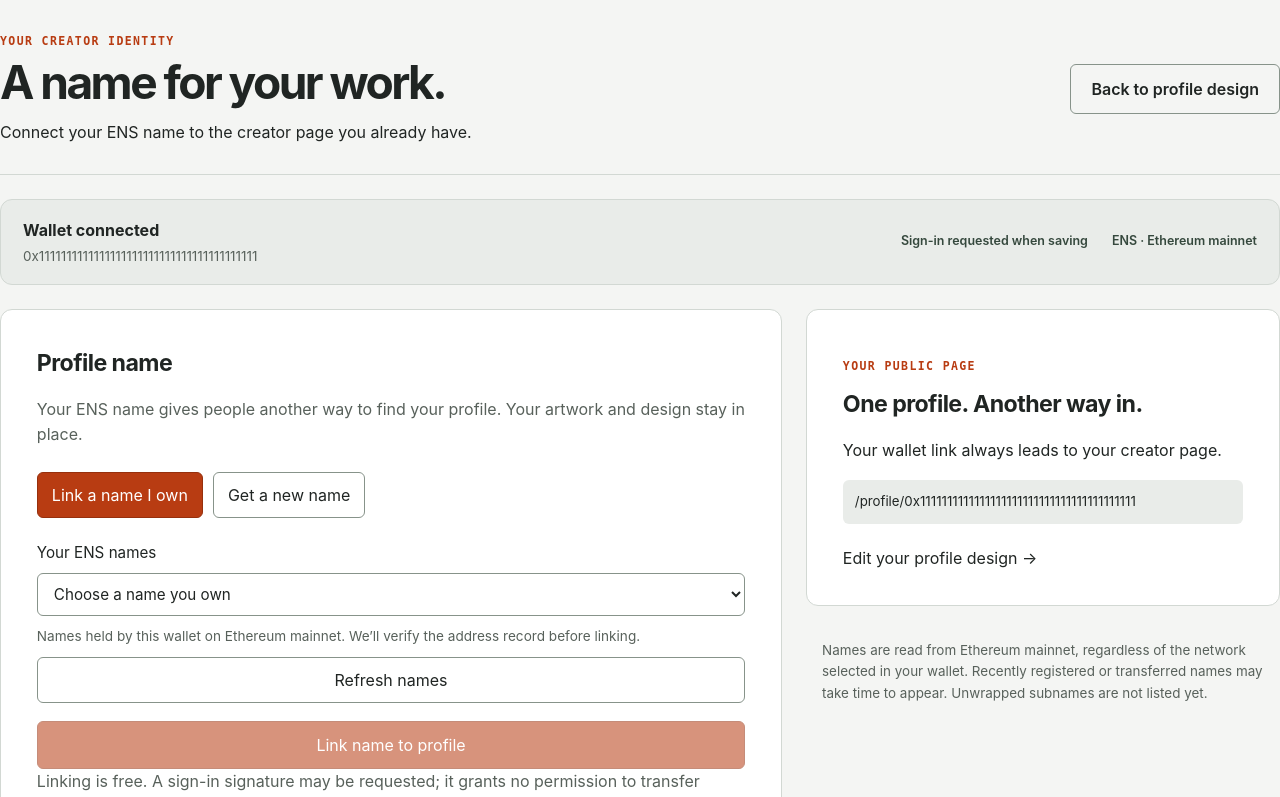
Scenario: discards a late ENS result after a different name is selected
Select "first.eth" in the dropdown labelled "Your ENS names" at point(391, 594), box [37,572,745,616]
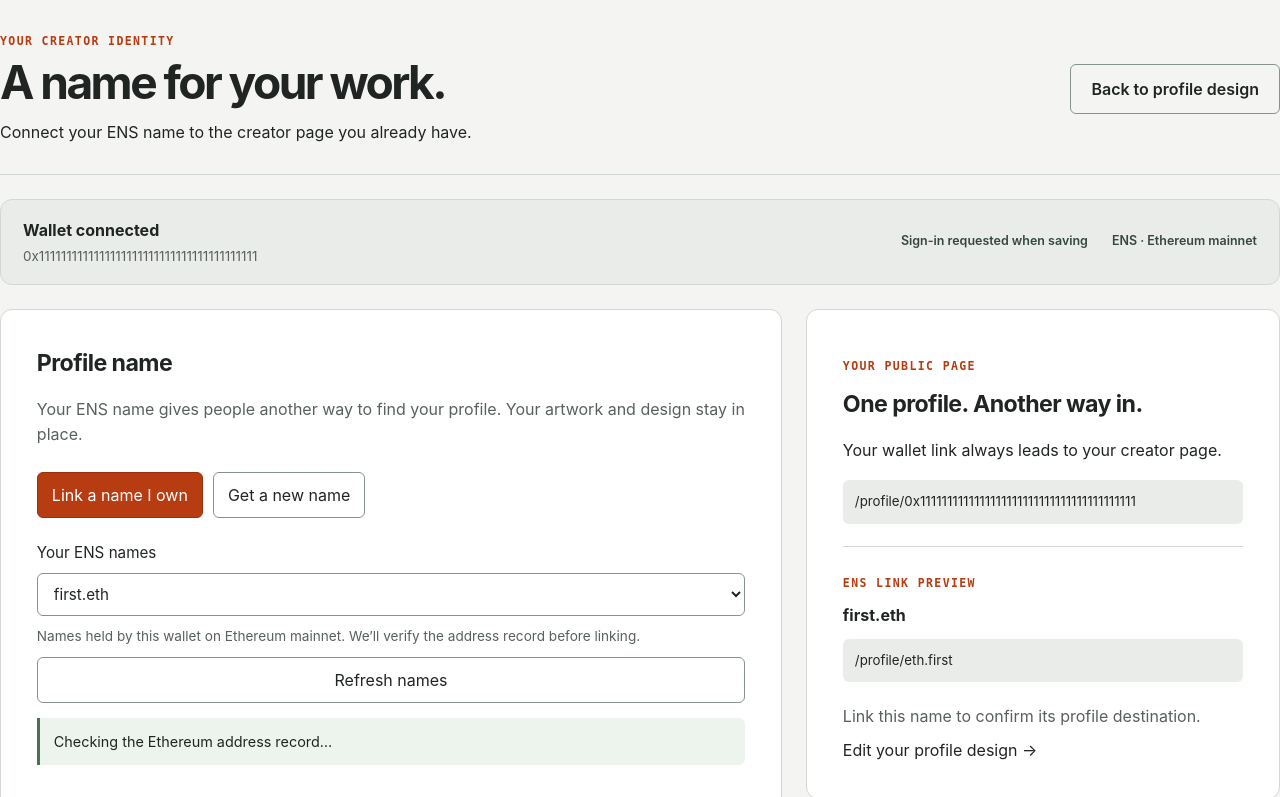
Select "second.eth" in the dropdown labelled "Your ENS names" at point(391, 594), box [37,572,745,616]
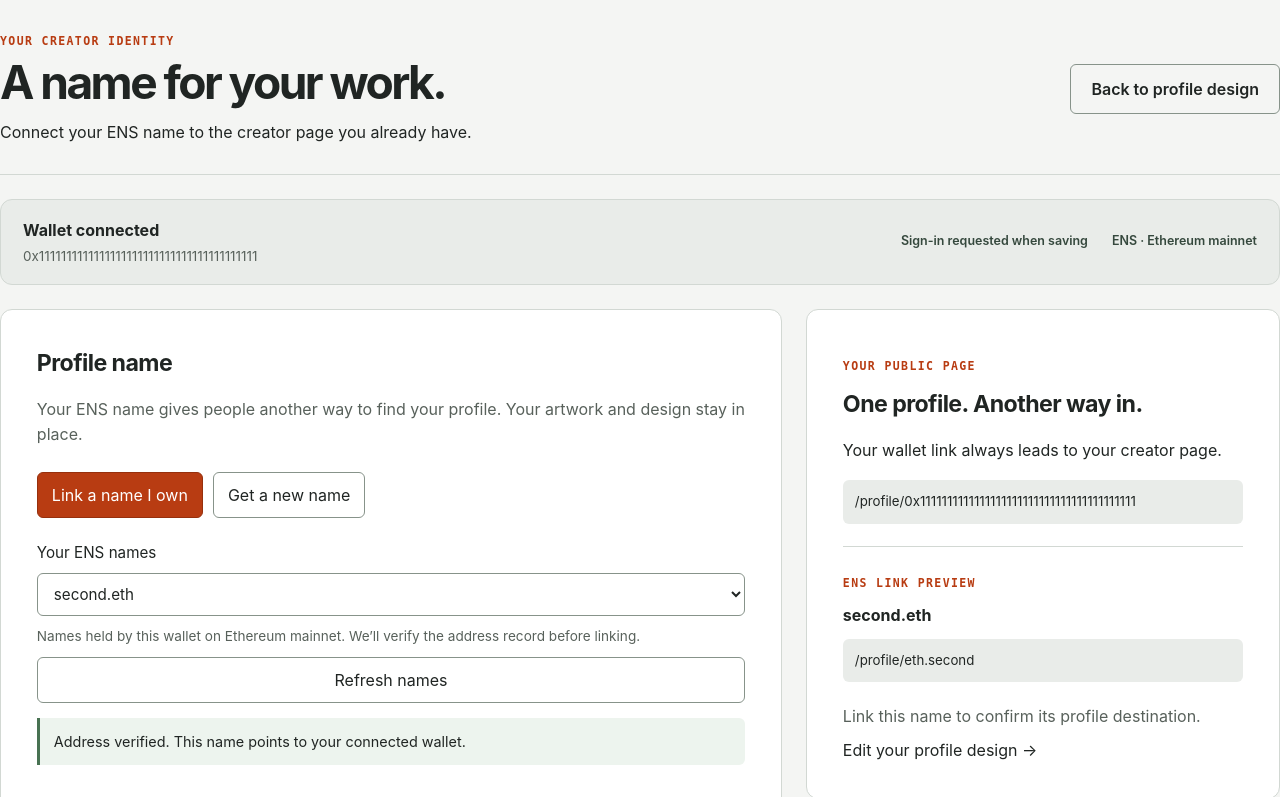
Result: the text "Address verified. This name points to your connected wallet." is shown at [37,718,745,765]
Result: the text "second.eth" is shown at [843,604,931,624]
Result: the text "first.eth" is gone
